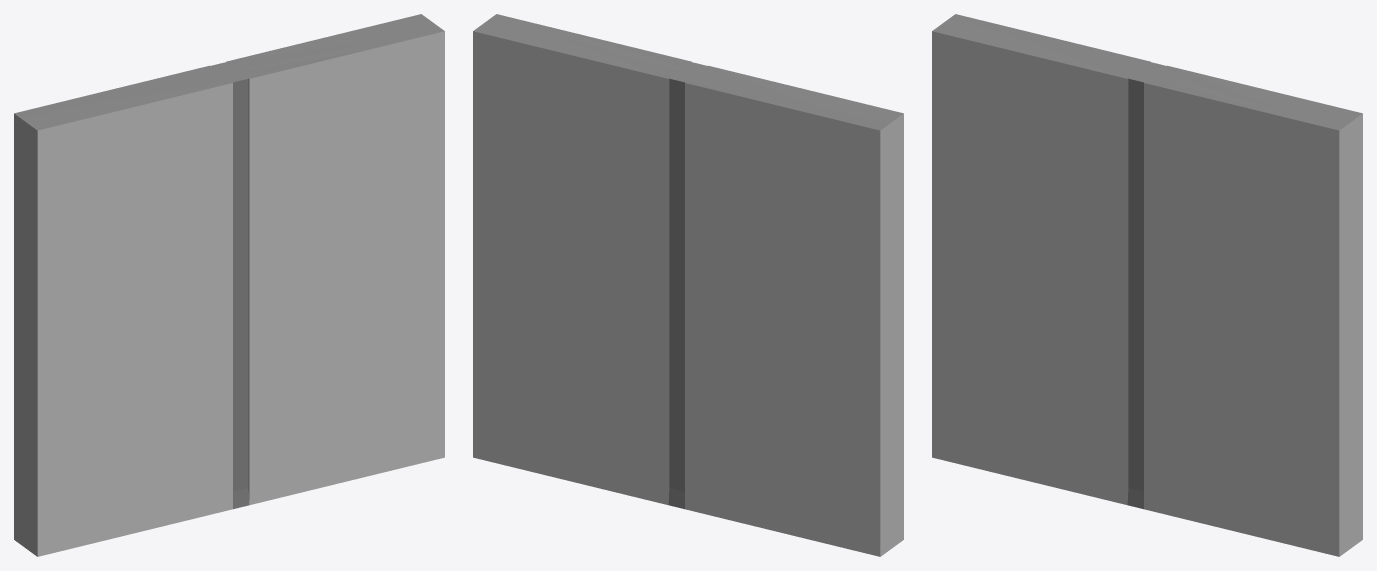
Rendered from ConcreteHalfWallSmall.fbx.
The picture shows the model from 3 angles, left to right: view 1: azimuth 30°, elevation 25°; view 2: azimuth 150°, elevation 25°; view 3: azimuth 330°, elevation 25°; orthographic projection.
Parts seen in each view (by area): view 1: ConcreteHalfWallSmall; view 2: ConcreteHalfWallSmall; view 3: ConcreteHalfWallSmall.
Boxes of the visible parts, x1=… form: ConcreteHalfWallSmall: x1=14, y1=14, x2=444, y2=556; ConcreteHalfWallSmall: x1=473, y1=14, x2=903, y2=556; ConcreteHalfWallSmall: x1=932, y1=14, x2=1362, y2=556.
Bounding box in the file's own units: 100 × 100 × 10.
